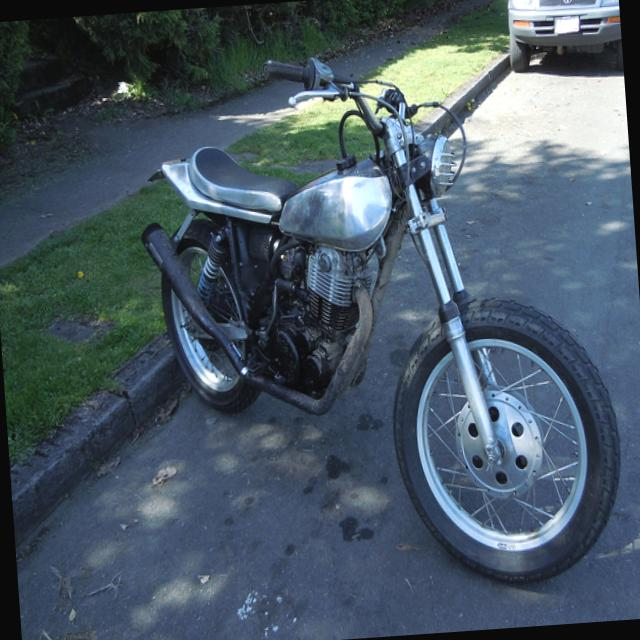Vehicle: (125, 32, 633, 609), (502, 0, 623, 79)
